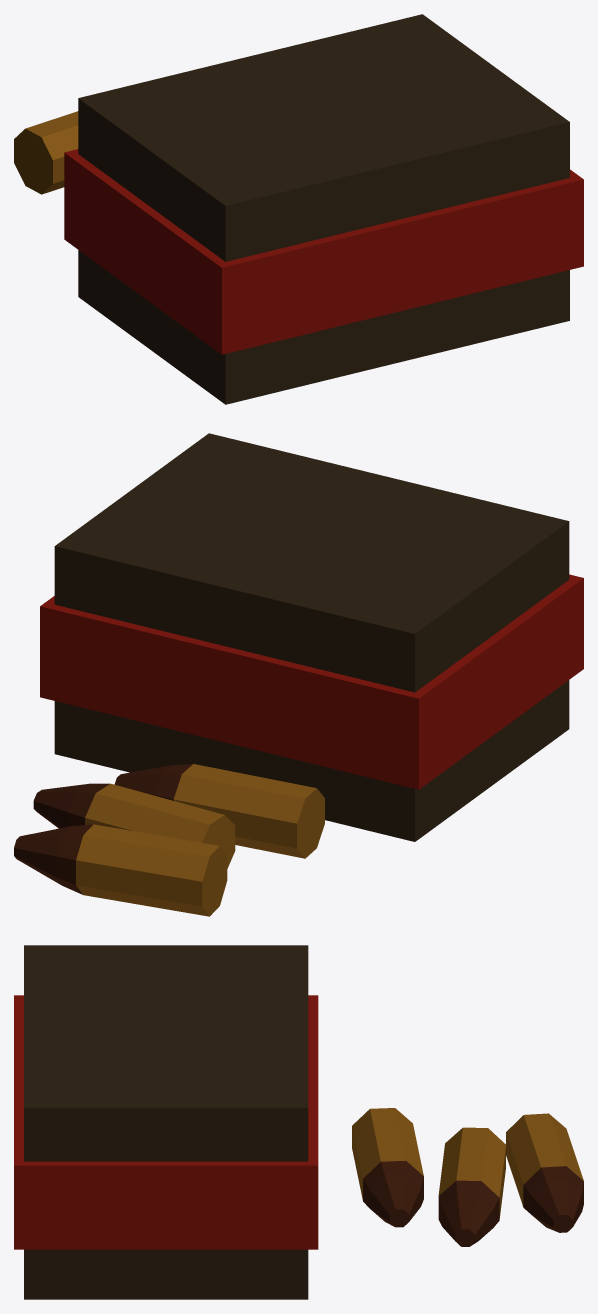
The model's file is SM_Ammo9mm.fbx.
3 views of the same model, one above another, from view 1: azimuth 30°, elevation 25°; view 2: azimuth 150°, elevation 25°; view 3: azimuth 270°, elevation 25° (orthographic). The views are drawn at different scales.
Parts seen in each view (by area): view 1: SM_Ammo9mm; view 2: SM_Ammo9mm; view 3: SM_Ammo9mm.
Part boxes in pixels (x1=…): SM_Ammo9mm: x1=14, y1=14, x2=583, y2=404; SM_Ammo9mm: x1=14, y1=433, x2=583, y2=916; SM_Ammo9mm: x1=14, y1=945, x2=583, y2=1299.
Bounding box in the file's own units: 6.1 × 3.2 × 8.62.
